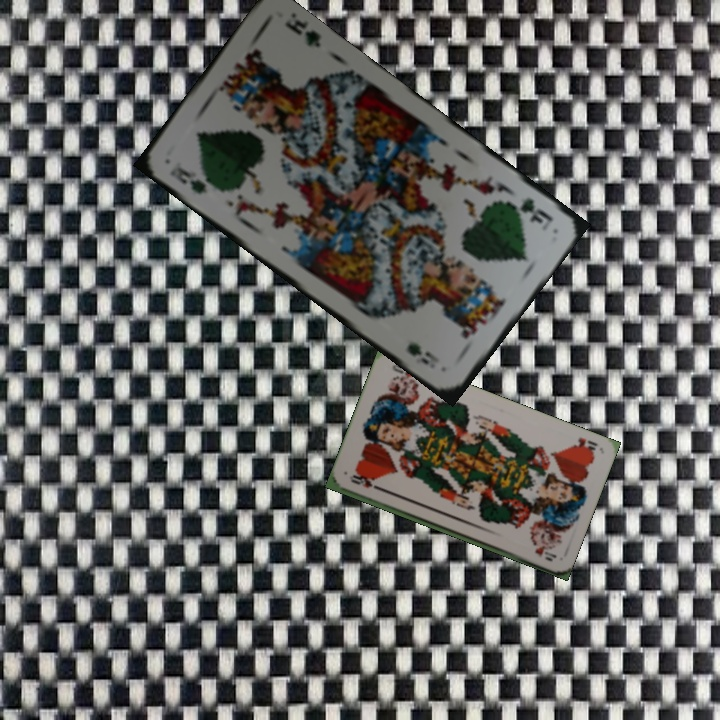GK: (165, 162, 220, 197), (503, 194, 557, 226)
HO: (566, 433, 600, 456), (347, 472, 384, 493)
